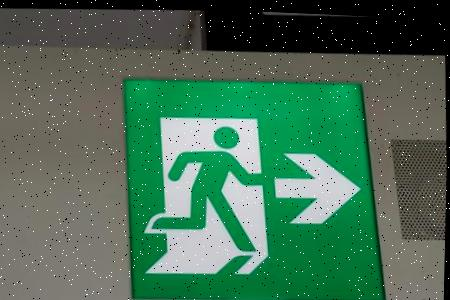emergency_exit: (122, 77, 387, 299)
